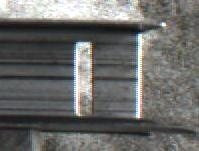40ngpress: (43, 18, 158, 134)
